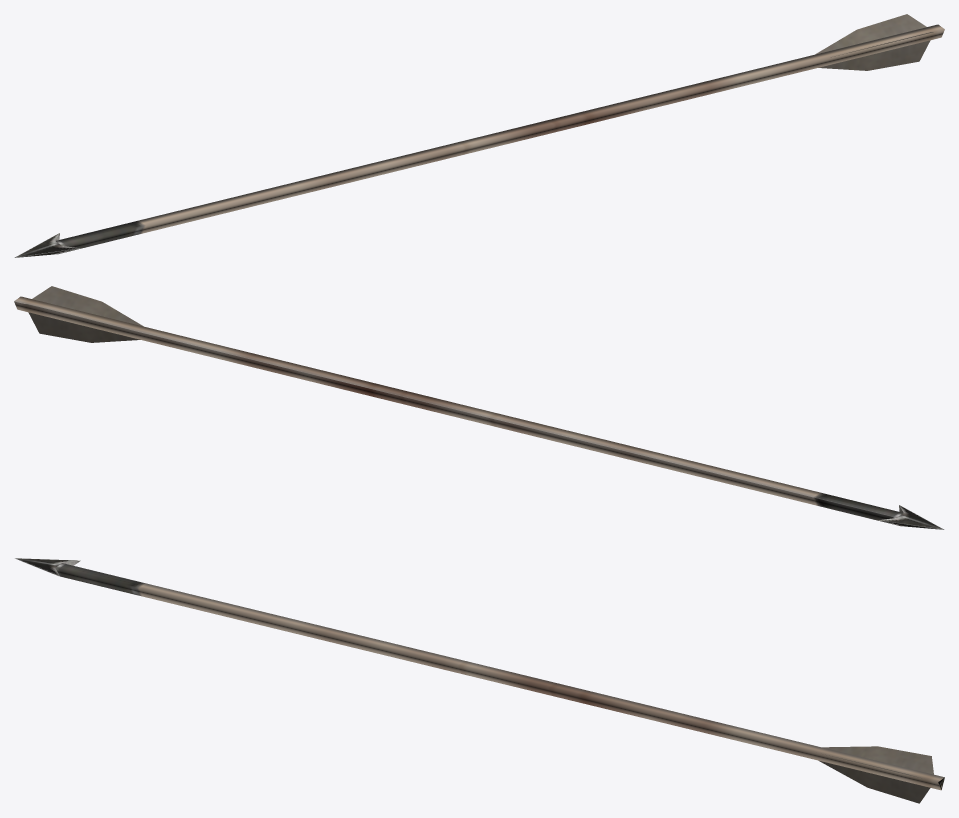
The model's file is GY_gongjian.fbx.
3 views of the same model, one above another, from view 1: azimuth 30°, elevation 25°; view 2: azimuth 150°, elevation 25°; view 3: azimuth 330°, elevation 25° (orthographic).
Parts seen in each view (by area): view 1: GY_gongjian; view 2: GY_gongjian; view 3: GY_gongjian.
Part boxes in pixels (bbox=[...]): GY_gongjian: bbox=[14, 14, 944, 257]; GY_gongjian: bbox=[14, 286, 944, 529]; GY_gongjian: bbox=[15, 558, 944, 803].
Size of the model in its own units: 106 by 4.21 by 4.87.
